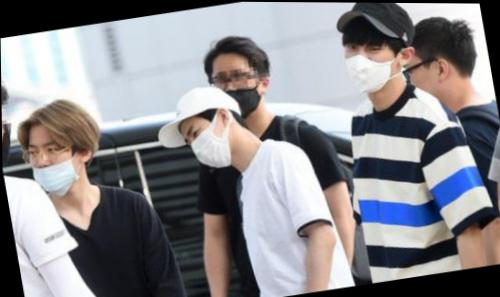OK: (338, 31, 404, 97), (180, 118, 234, 171)
WRONG: (24, 135, 87, 198), (210, 64, 267, 123)
